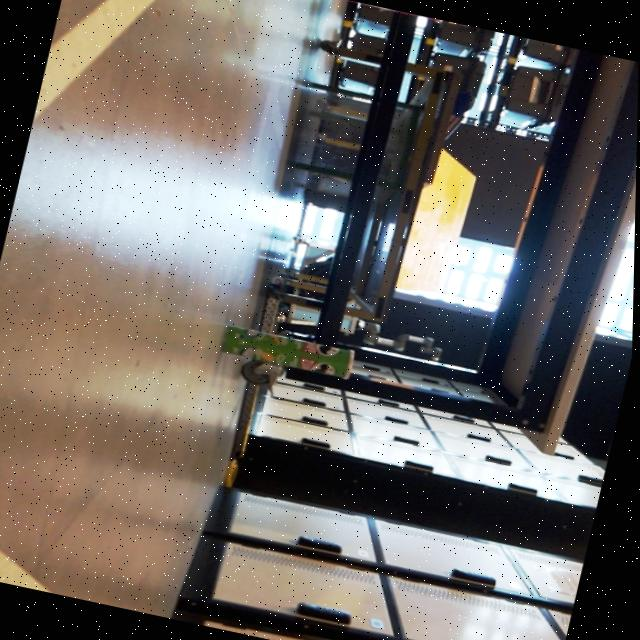greenpringles: (222, 318, 371, 389)
redpringles: (282, 0, 459, 35)
